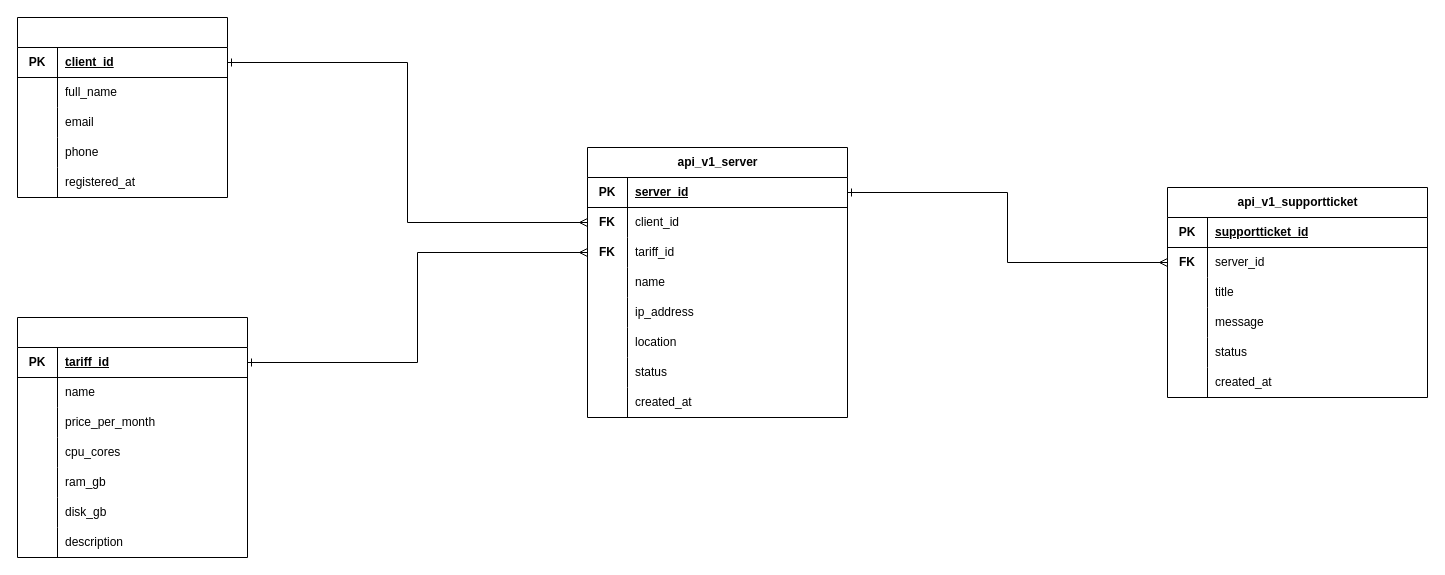
This 1445x575 diagram has some shape labels left out. The shapes that lost their labels are listed below. From the top down, each one's box as (x1, y1, x2, y2) in pixels, then its label:
(16, 16, 228, 198): api_v1_client
(16, 316, 248, 558): api_v1_tariff
